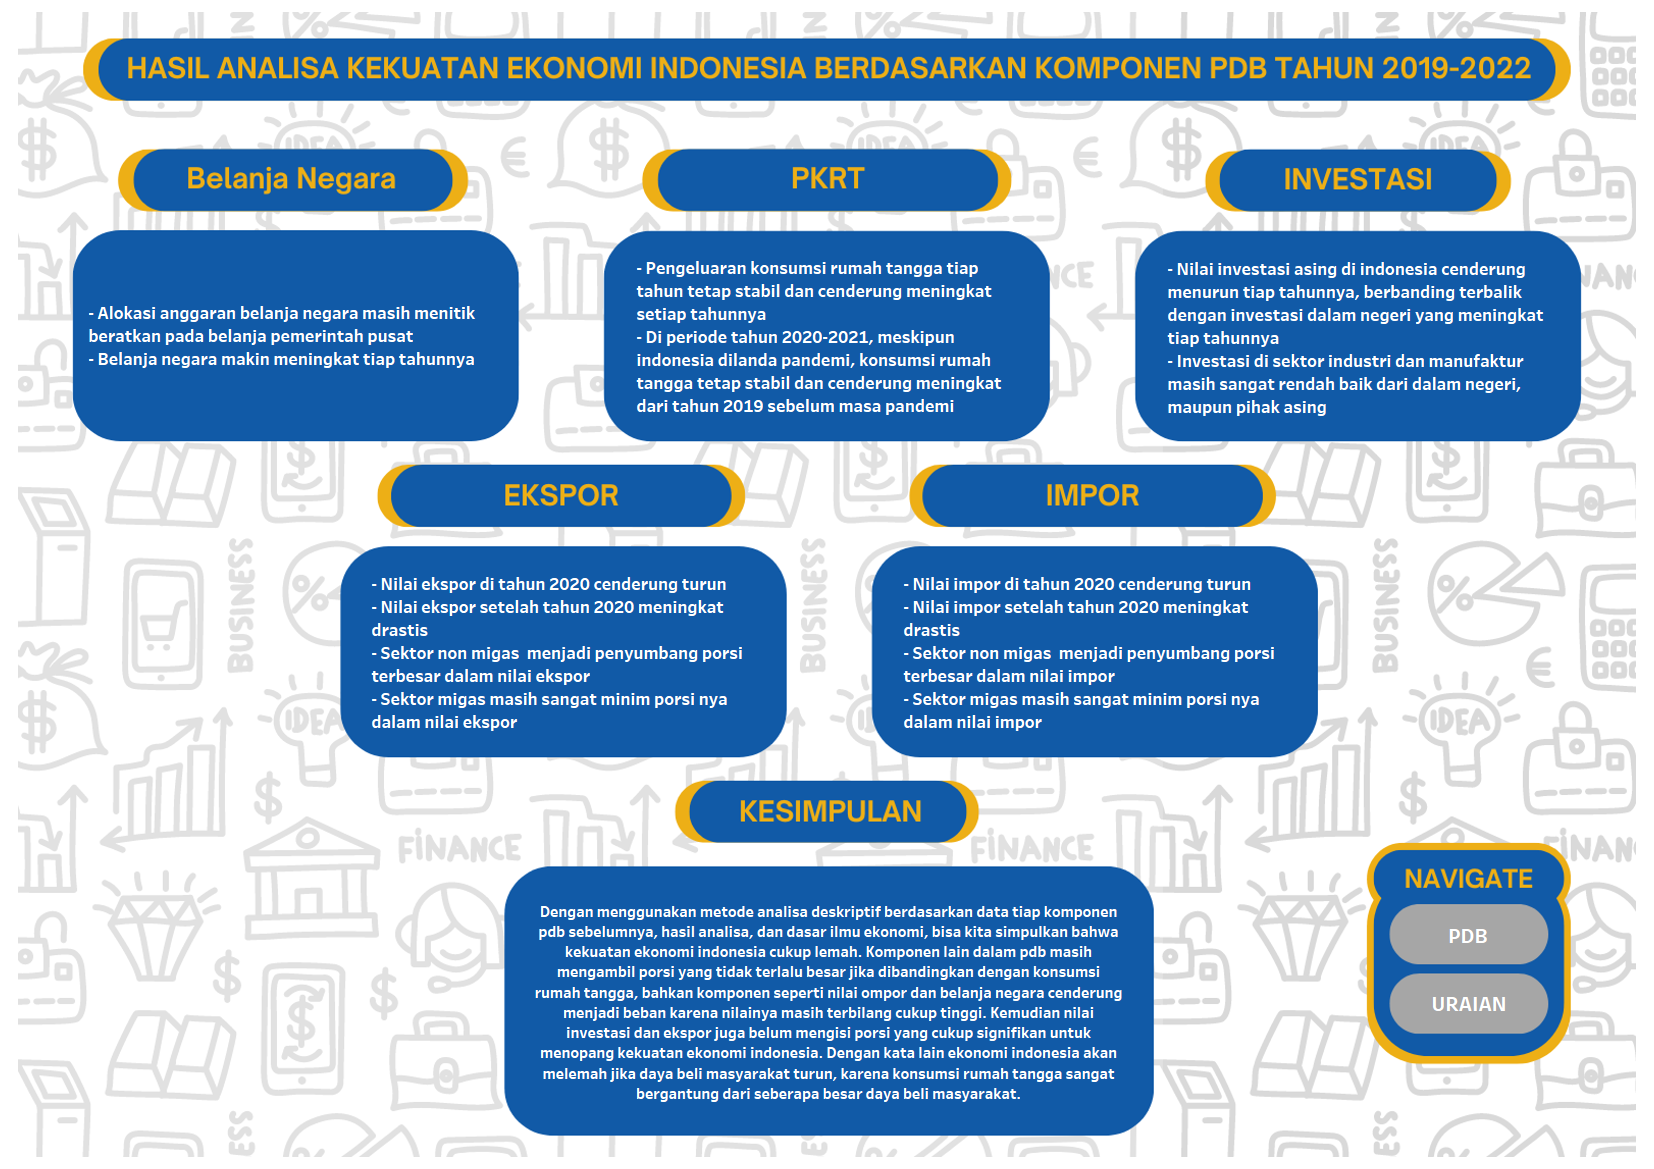

What the dashboard file says about the page in this screenshot:
{"tool":"tableau","page":{"name":"ANALISA","canvas":[1654,1169],"ordinal":0},"visuals":[{"type":"image","param":"Image/3.png","box":[8,8,1638,1153]},{"type":"text","box":[85,252,422,166]},{"type":"text","box":[633,253,387,166]},{"type":"text","box":[1164,254,387,166]},{"type":"text","box":[368,569,387,166]},{"type":"text","box":[900,569,387,166]},{"type":"text","box":[531,890,595,231]},{"type":"dashboard-object","box":[1386,909,164,52]},{"type":"dashboard-object","box":[1387,977,164,52]}]}

Visuals, with their boxes in screenshot pixels (x1, y1, x2, y2), scaled from the page's 1654x1169 canvas onto the 1654x1169 screenshot:
image: 8:8:1646:1161
text: 85:252:507:418
text: 633:253:1020:419
text: 1164:254:1551:420
text: 368:569:755:735
text: 900:569:1287:735
text: 531:890:1126:1121
dashboard-object: 1386:909:1550:961
dashboard-object: 1387:977:1551:1029
